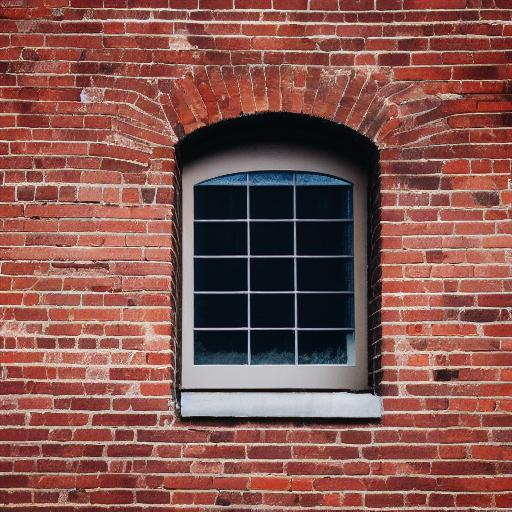Window: (166, 65, 405, 426)
